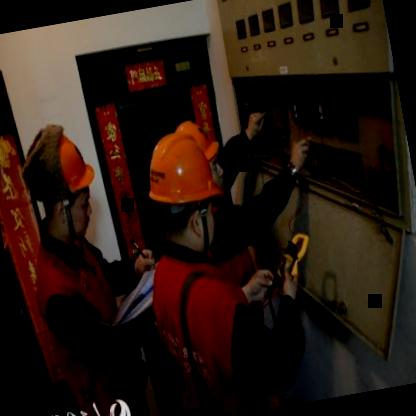helmet: (138, 121, 231, 260), (24, 122, 104, 242), (174, 111, 232, 205)
